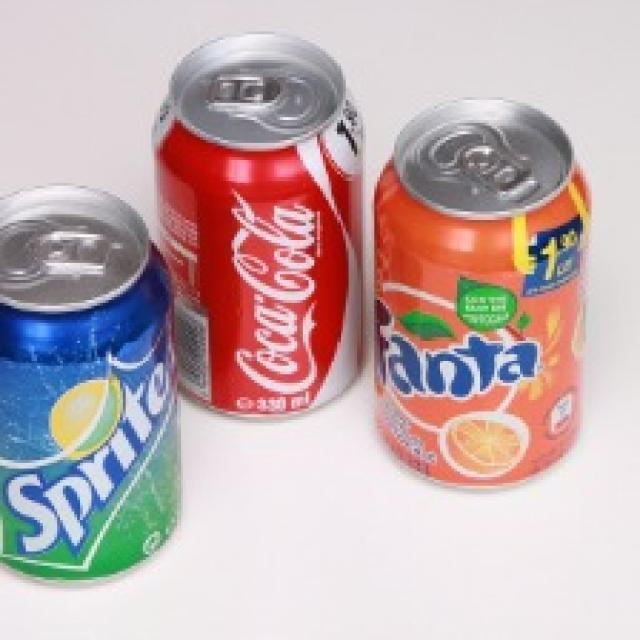metel: (140, 13, 364, 412), (368, 107, 586, 480)
